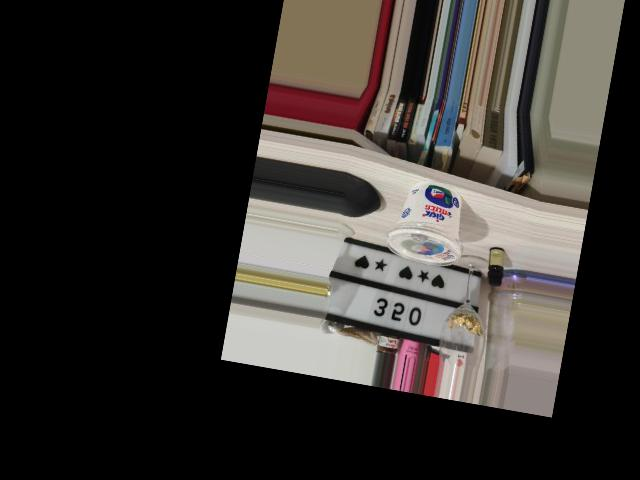cotage: (389, 174, 467, 271)
